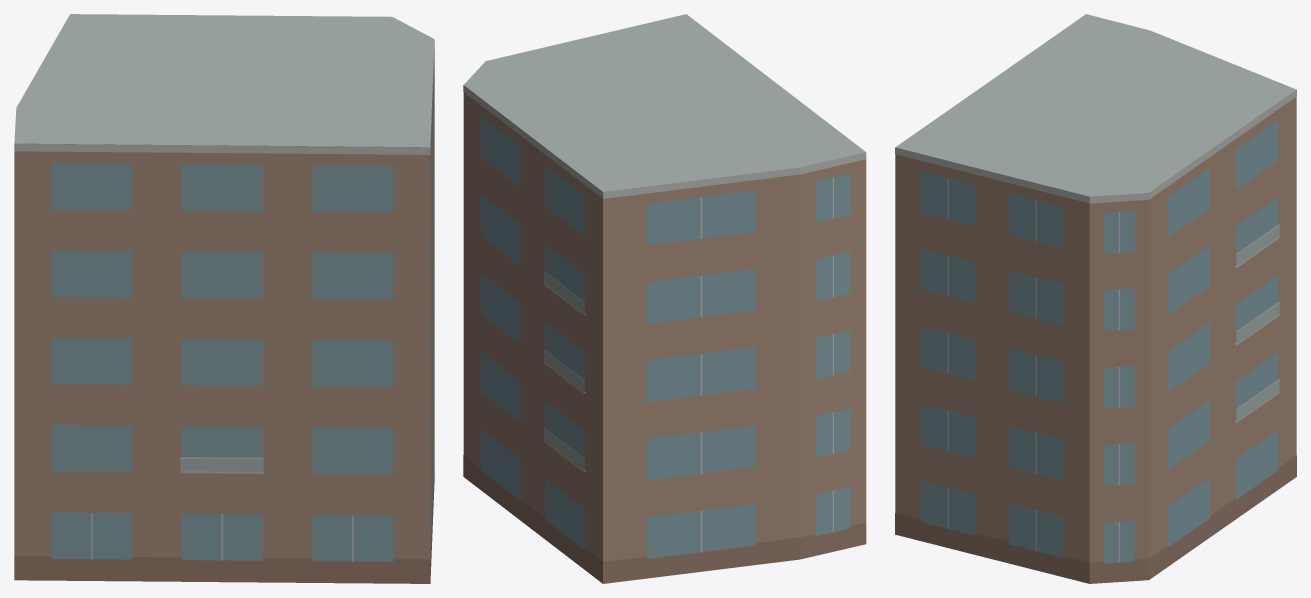
Rendered from survey-upis-32680669.glb.
3 views of the same model, side by side, from view 1: azimuth 30°, elevation 25°; view 2: azimuth 150°, elevation 25°; view 3: azimuth 270°, elevation 25° (orthographic). The views are drawn at different scales.
Parts seen in each view (by area): view 1: survey-upis-32680669.tmp; view 2: survey-upis-32680669.tmp; view 3: survey-upis-32680669.tmp.
Boxes of the visible parts, x1=… form: survey-upis-32680669.tmp: x1=14, y1=14, x2=434, y2=583; survey-upis-32680669.tmp: x1=463, y1=14, x2=866, y2=583; survey-upis-32680669.tmp: x1=895, y1=14, x2=1296, y2=583.
Bounding box in the file's own units: 13.97 × 13.8 × 12.98.
